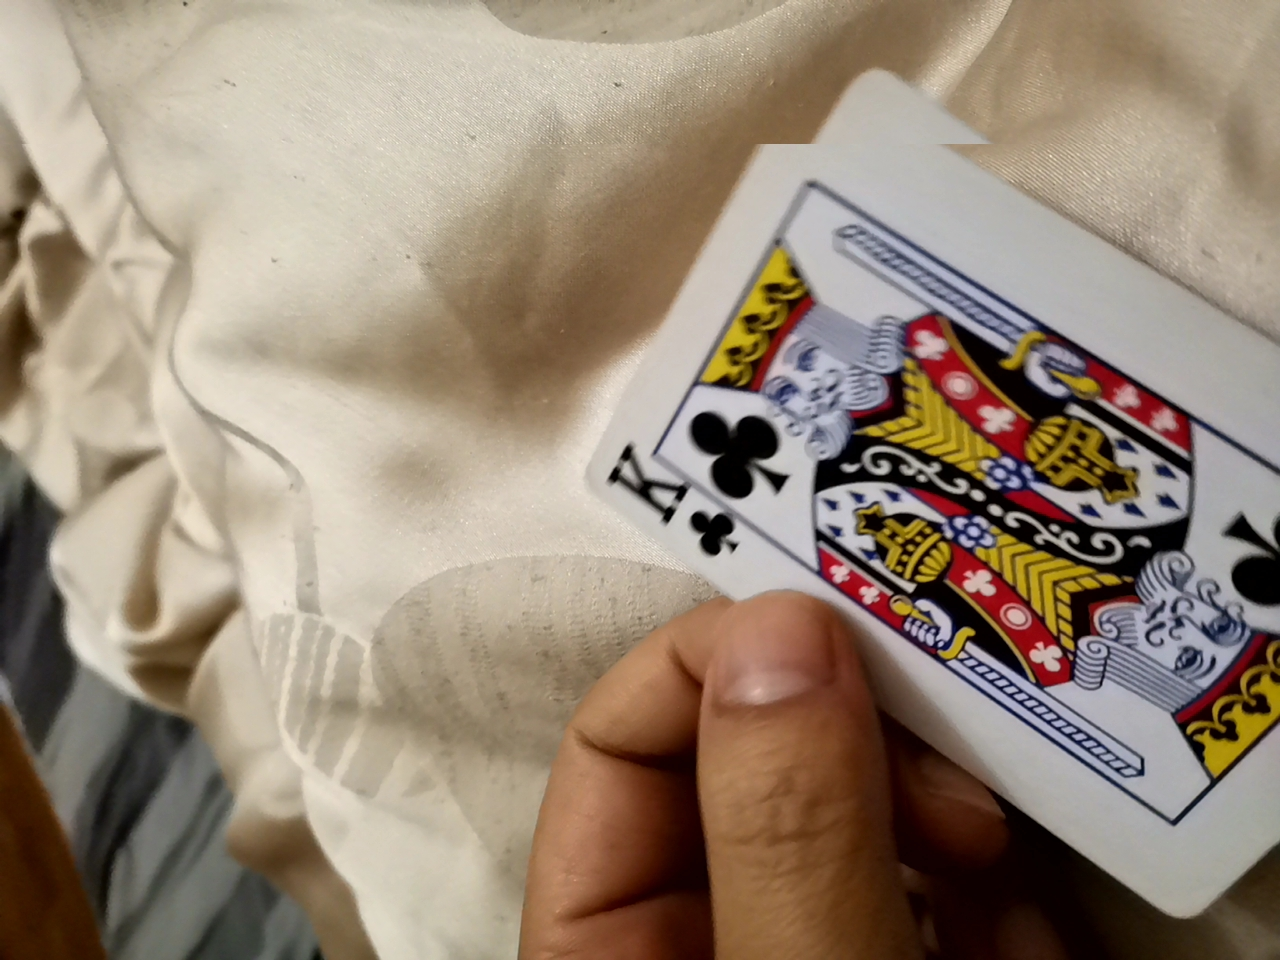mh k: (518, 57, 1269, 928)
